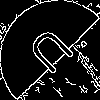U: (25, 25, 83, 83)
